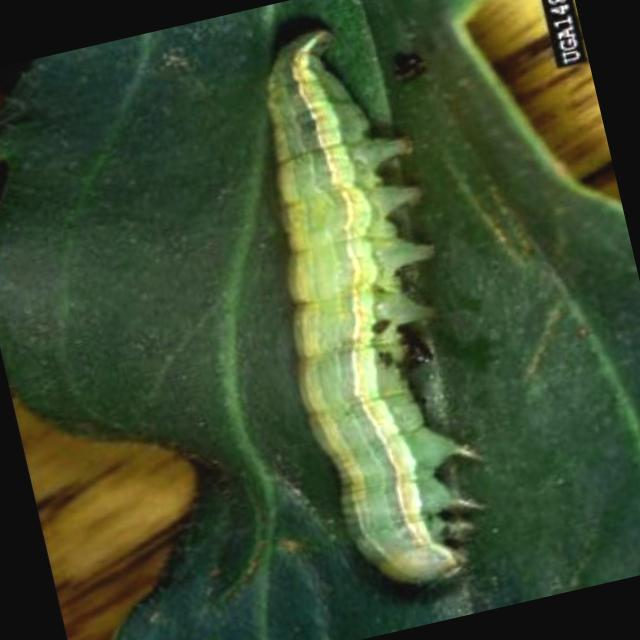Beet armyworm: (158, 0, 550, 631)
